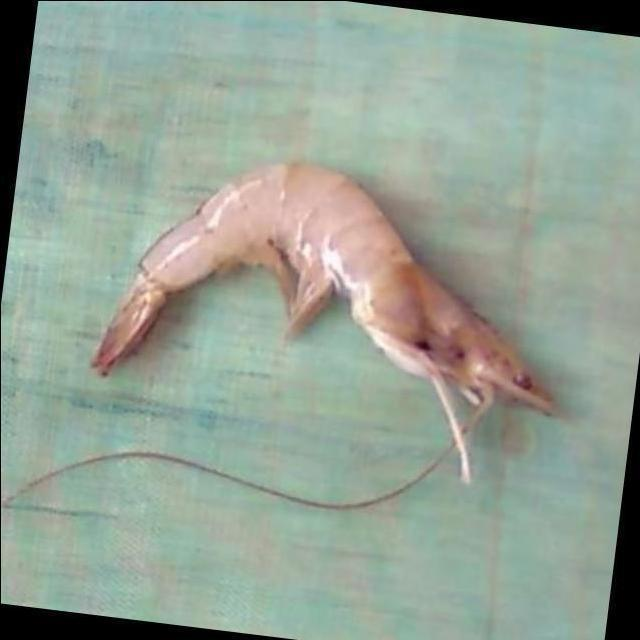shrimp: (91, 164, 554, 482)
